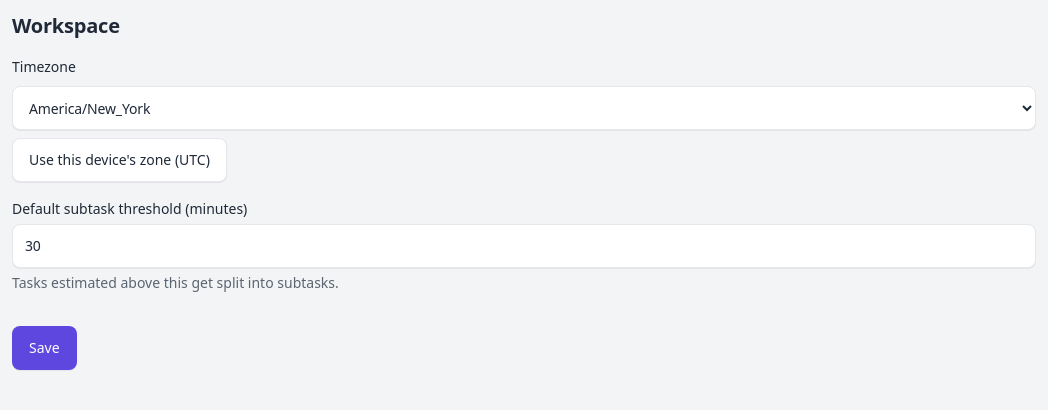
Test: WorkspaceSection › [P0-26][REL-6] T-P0-26-03 saving the timezone sends PUT with version; a 409 shows the current value
The image size is (1048, 410).
Select "Australia/Sydney" in the dropdown labelled "Timezone": (524, 108) [12, 86, 1036, 130]
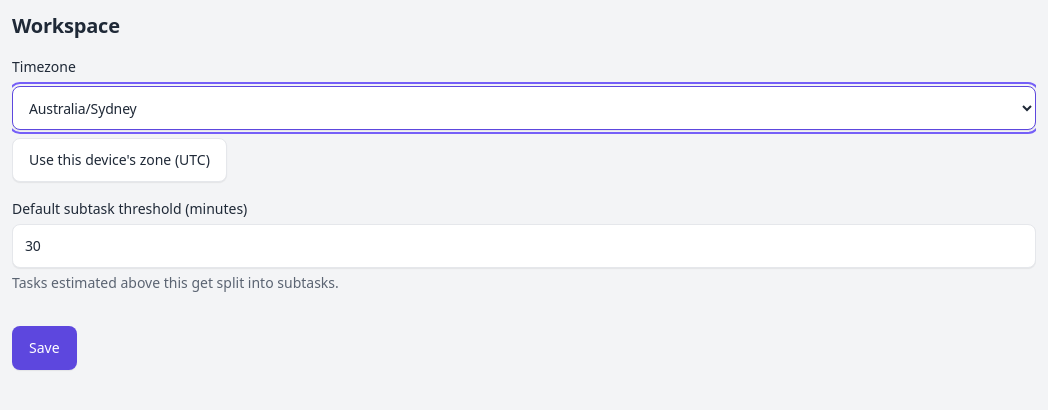
Click the button "Save": (44, 348) [12, 326, 77, 370]
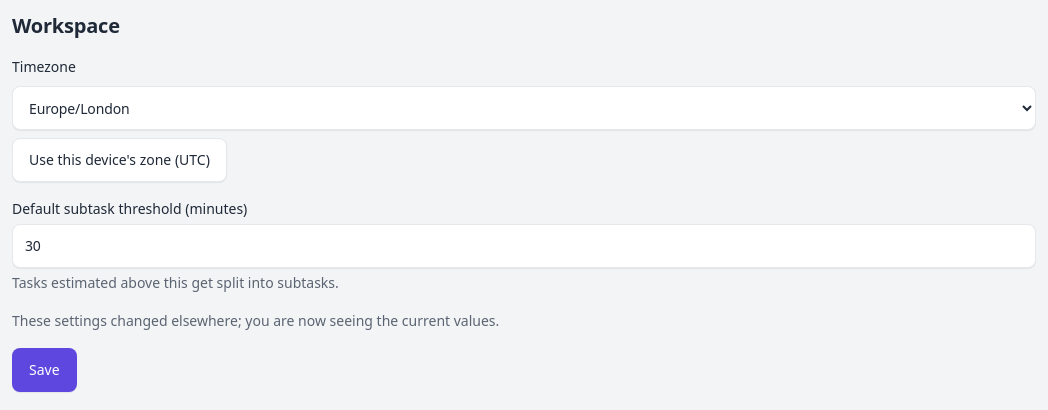
expect the message shows "changed elsewhere": met, box [12, 311, 499, 330]
